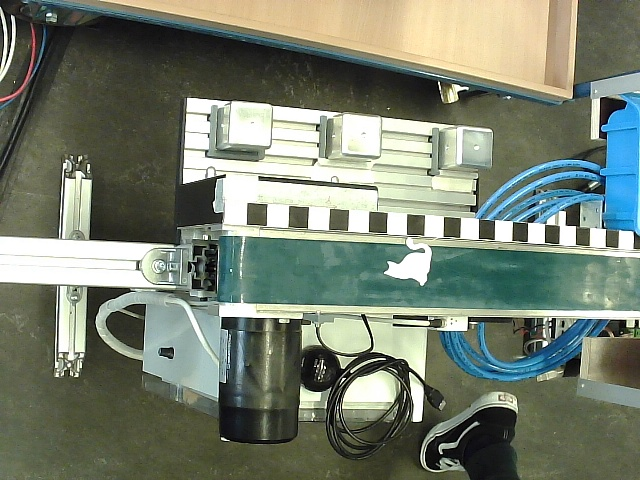cat: (384, 237, 433, 287)
